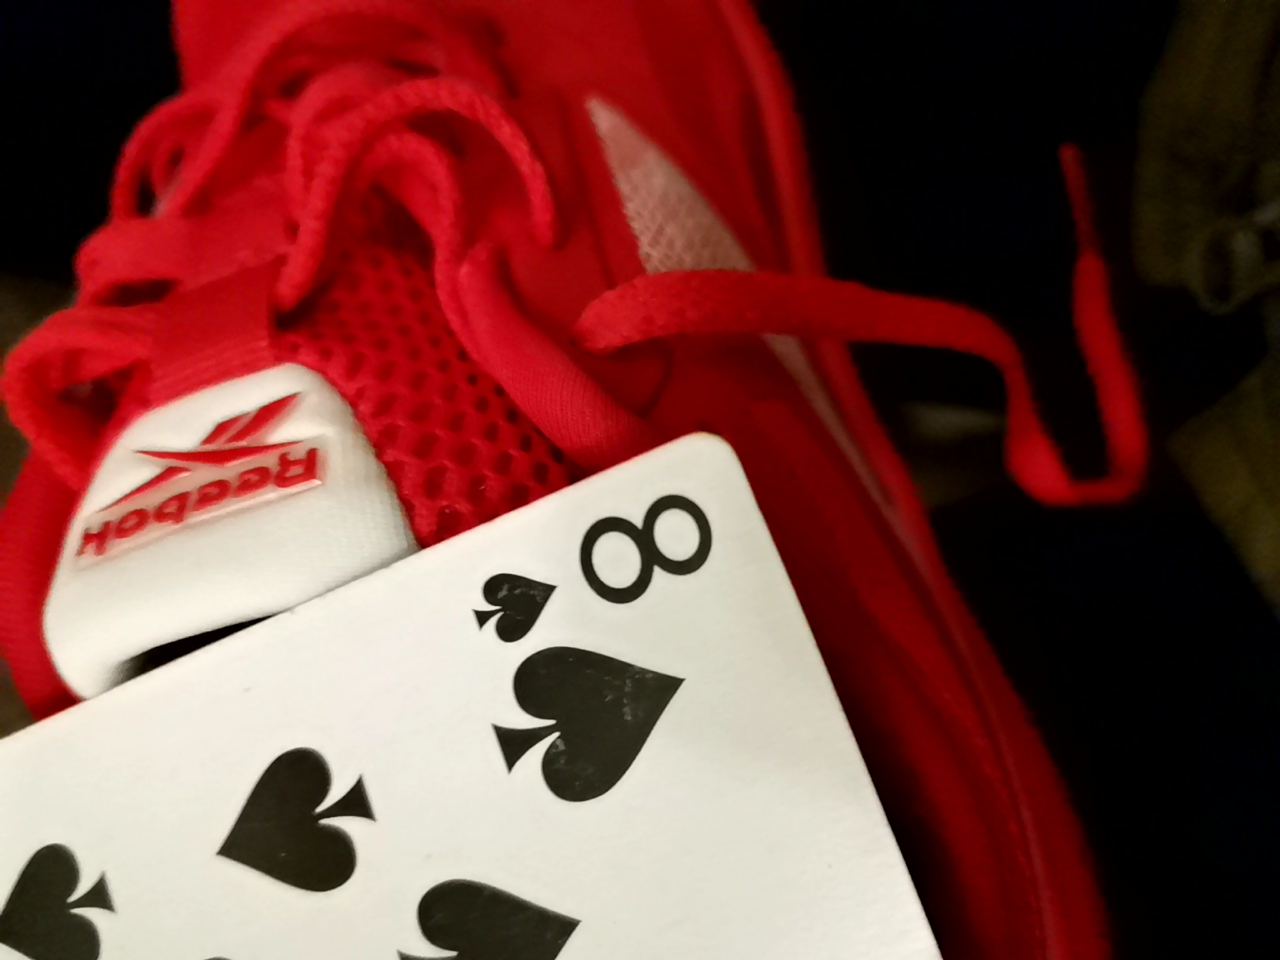ht 8: (7, 450, 993, 956)
